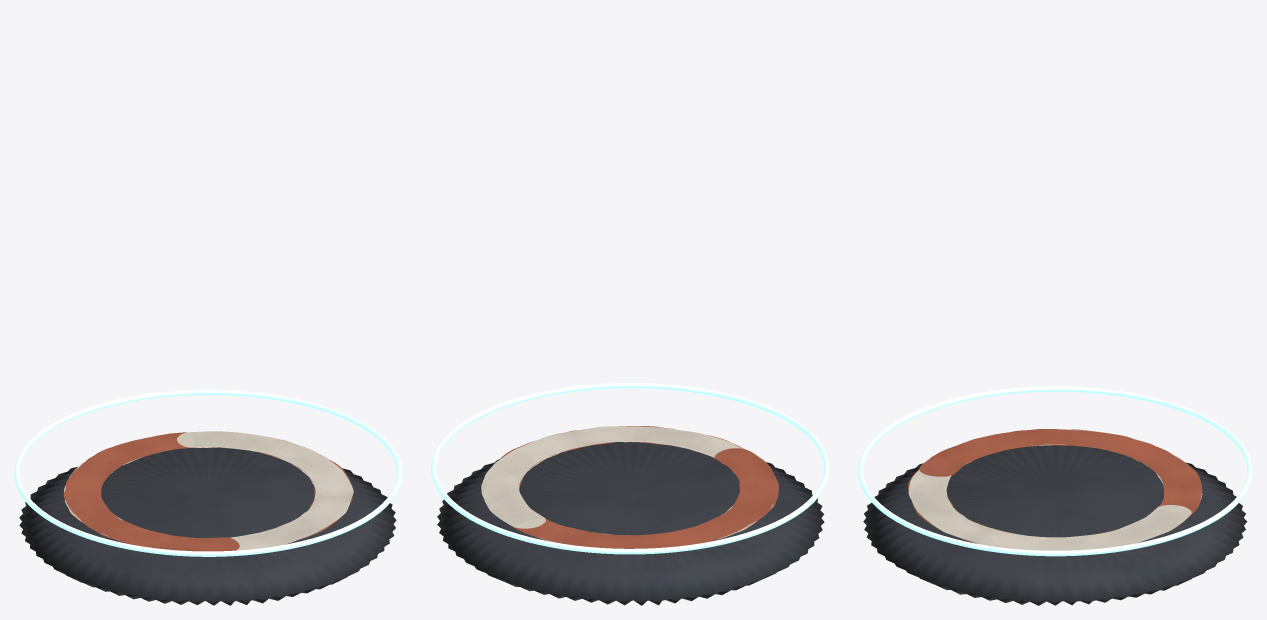
Rendered from adn-del-color.glb.
3 renders of one model, left to right at view 1: azimuth 30°, elevation 25°; view 2: azimuth 150°, elevation 25°; view 3: azimuth 270°, elevation 25°, orthographic. The views are drawn at different scales.
Parts seen in each view (by area): view 1: Pedestal, Cadena_B, Cadena_A, Anillo_escaneo; view 2: Pedestal, Cadena_B, Cadena_A, Anillo_escaneo; view 3: Pedestal, Cadena_B, Cadena_A, Anillo_escaneo.
Part boxes in pixels (box(x1,y1,x2,y2)): Pedestal: box(19, 447, 396, 605); Cadena_B: box(63, 432, 352, 551); Cadena_A: box(64, 431, 353, 550); Anillo_escaneo: box(14, 389, 402, 556); Pedestal: box(437, 442, 824, 605); Cadena_B: box(498, 426, 778, 548); Cadena_A: box(481, 426, 773, 542); Anillo_escaneo: box(431, 382, 829, 554); Pedestal: box(863, 445, 1247, 605); Cadena_B: box(908, 429, 1202, 543); Cadena_A: box(908, 429, 1202, 550); Anillo_escaneo: box(858, 386, 1252, 556).
Size of the model in its own units: 3.55 by 5.11 by 3.55.
Materials: 28 (27 with a texture image).
